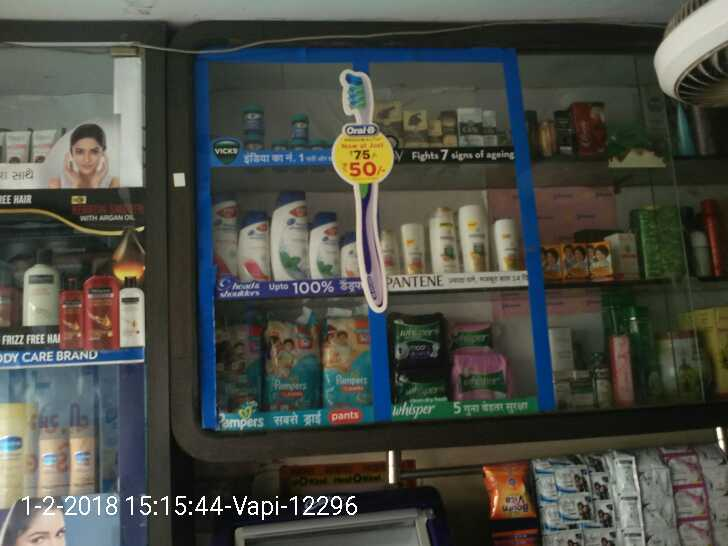beauty: (265, 185, 310, 283), (213, 189, 239, 294), (237, 215, 272, 285), (459, 202, 492, 275), (310, 210, 343, 280), (456, 106, 507, 150), (430, 208, 459, 276), (491, 218, 525, 273), (397, 221, 428, 279), (398, 106, 428, 148)
pharmacy: (259, 318, 322, 413), (212, 316, 260, 420), (323, 313, 374, 405), (449, 359, 514, 405), (388, 315, 435, 361), (285, 116, 317, 143), (239, 103, 263, 128)
